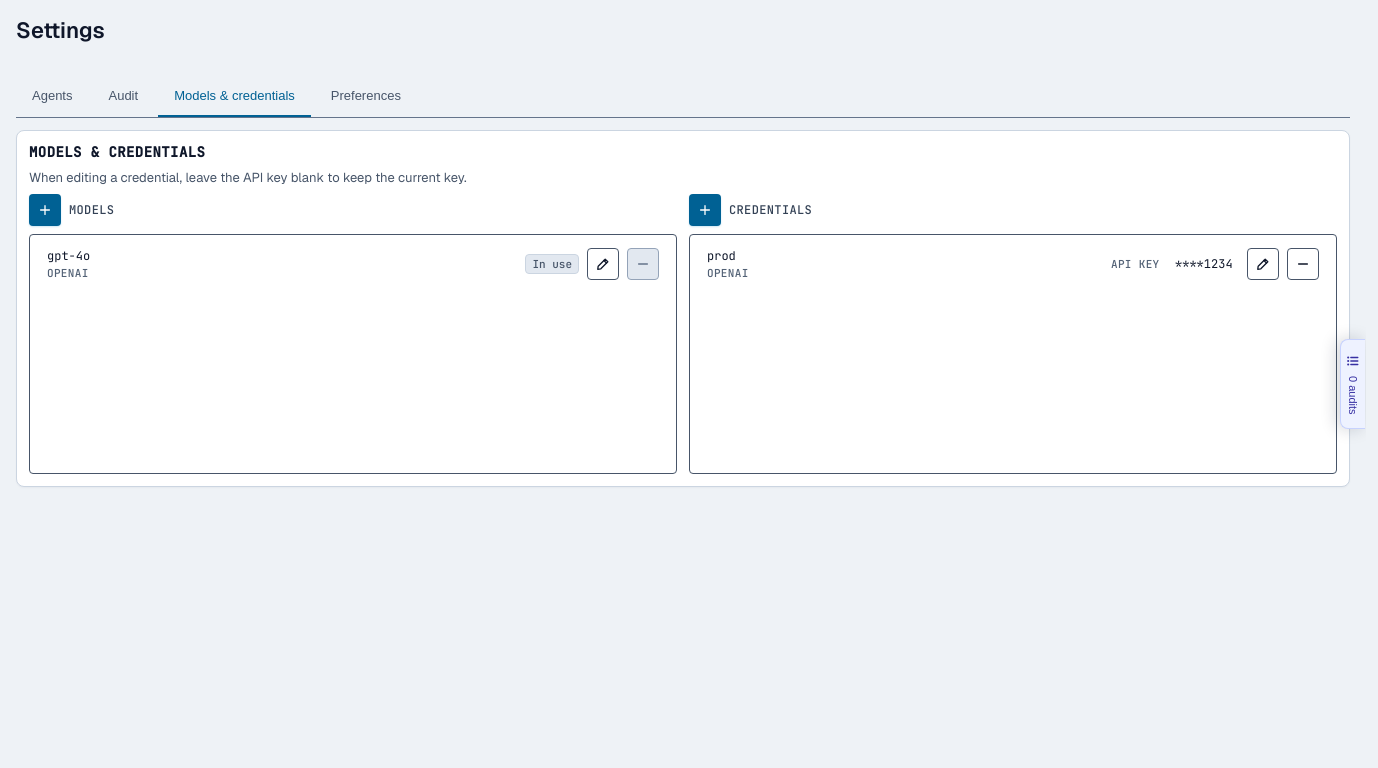
it: SettingsPage › removes a credential toasting success
Check: the option "prod OpenAI API key ****1234" is shown, box [694,239,1332,288]
Step 1. Click the button named "Remove prod" → [1303, 264], box [1287,248,1319,280]
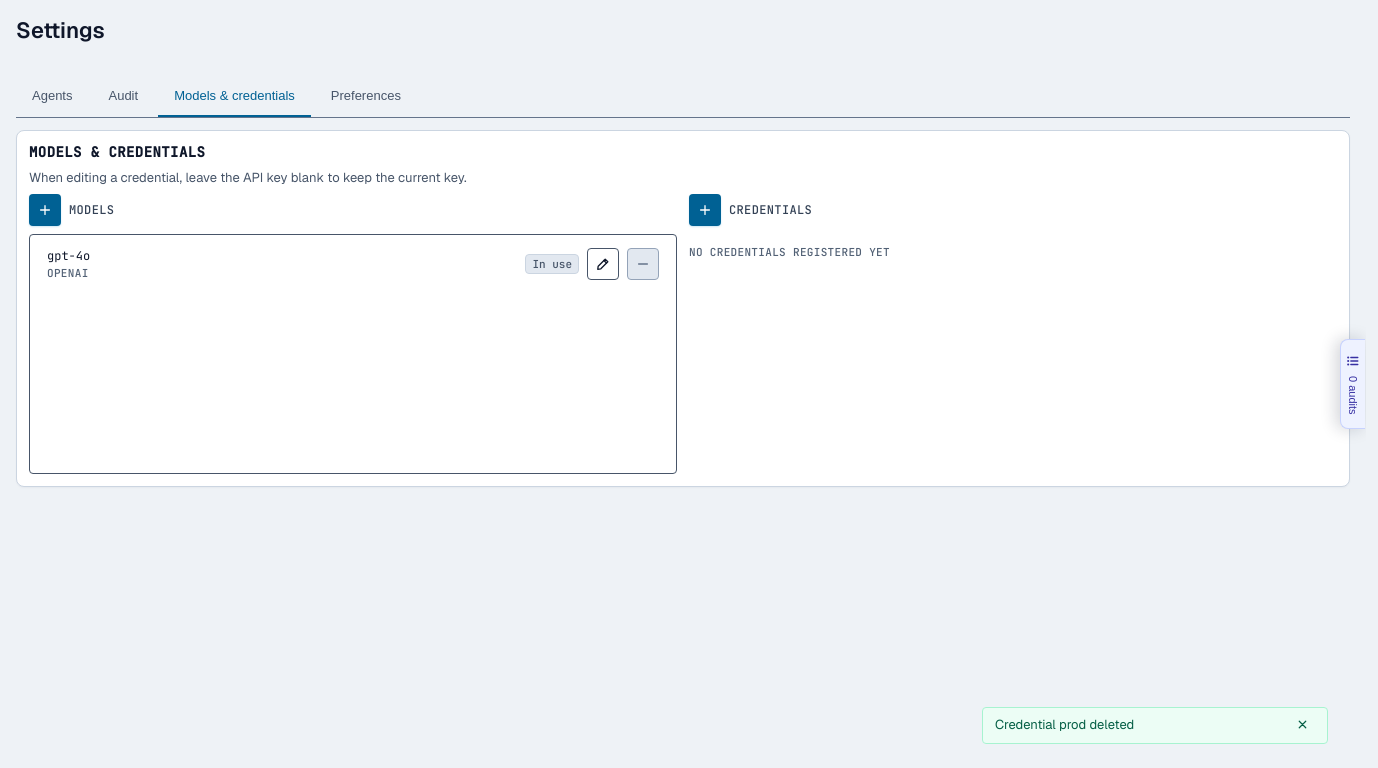
Check: the text "Credential prod deleted" is shown, box [995,716,1134,733]
